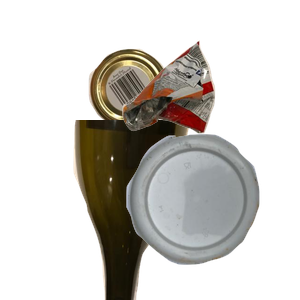glass: (71, 120, 254, 300)
metal: (86, 46, 248, 169)
plastic: (124, 132, 300, 300)
trash: (120, 38, 300, 164)
